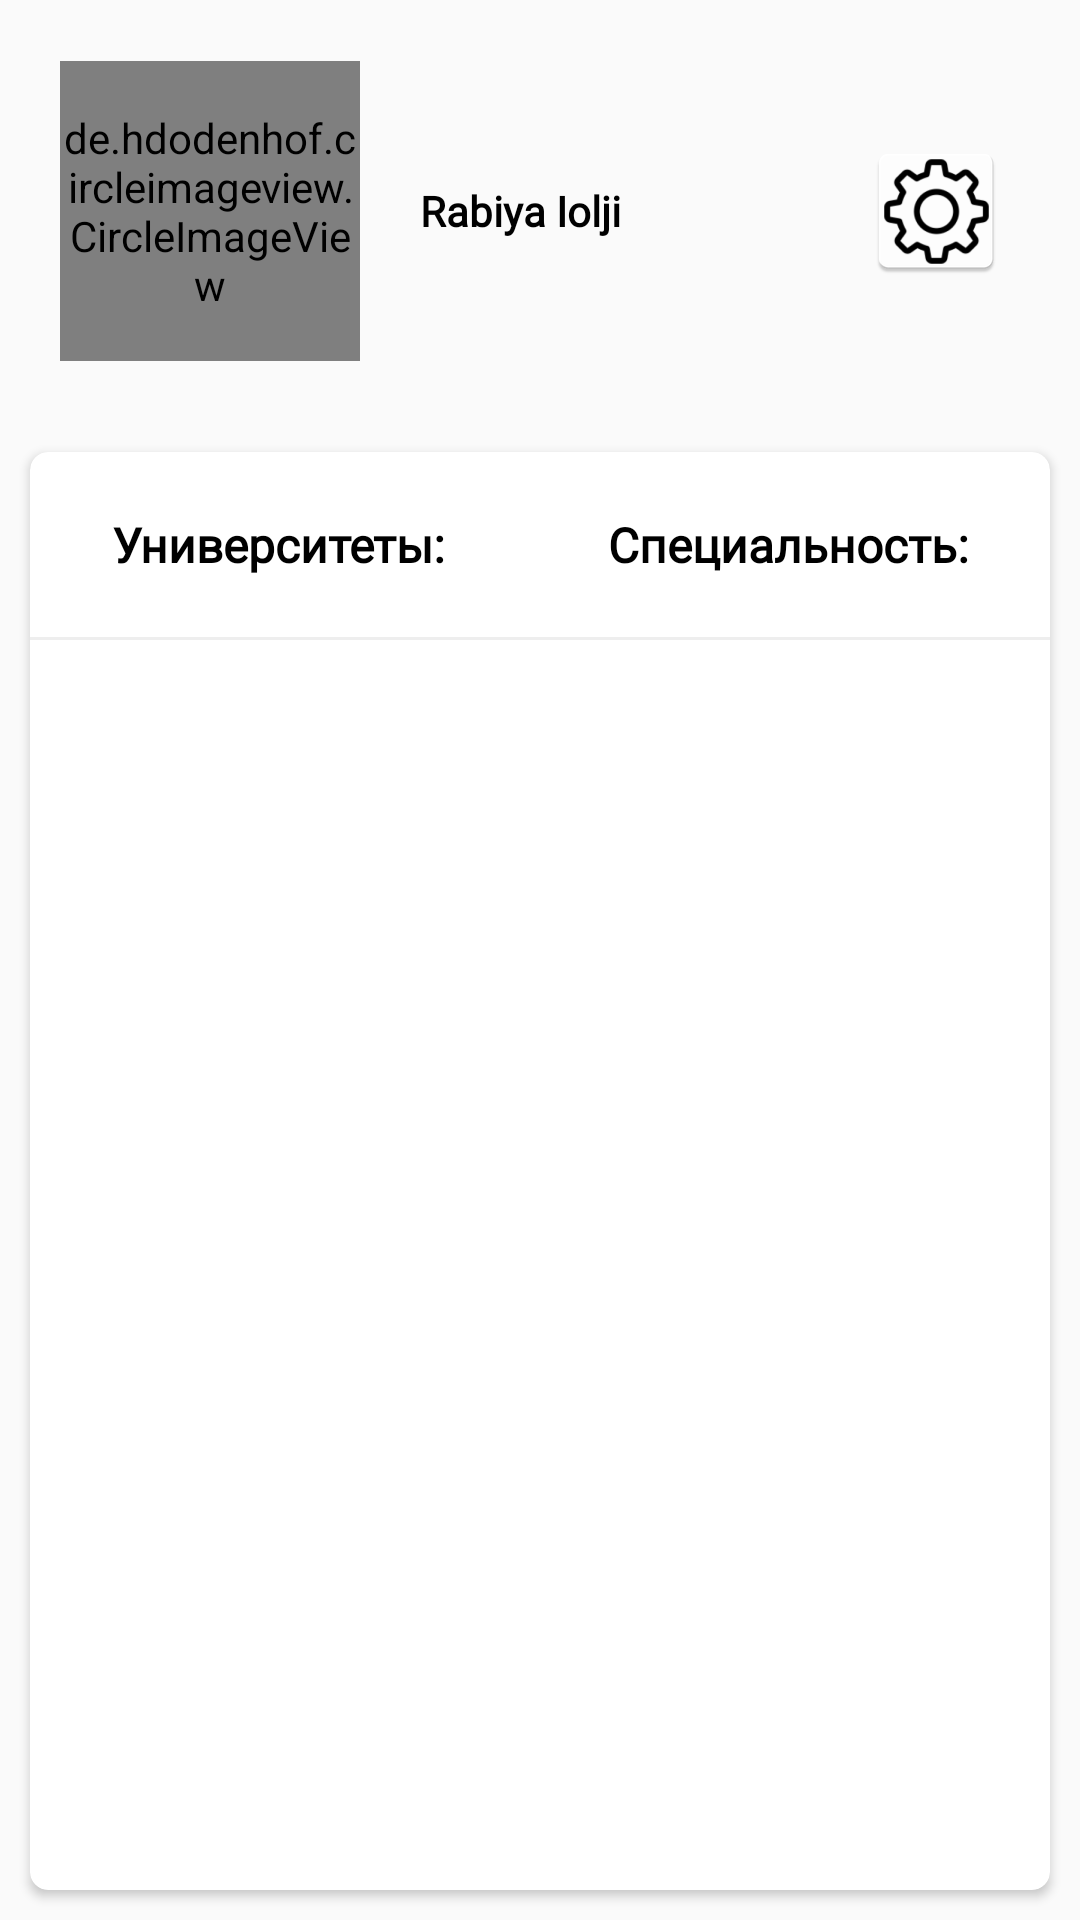

Screen size 1080px x 1920px. Icon name, then its center in pixels as [x,y]:
settings: [936,215]
